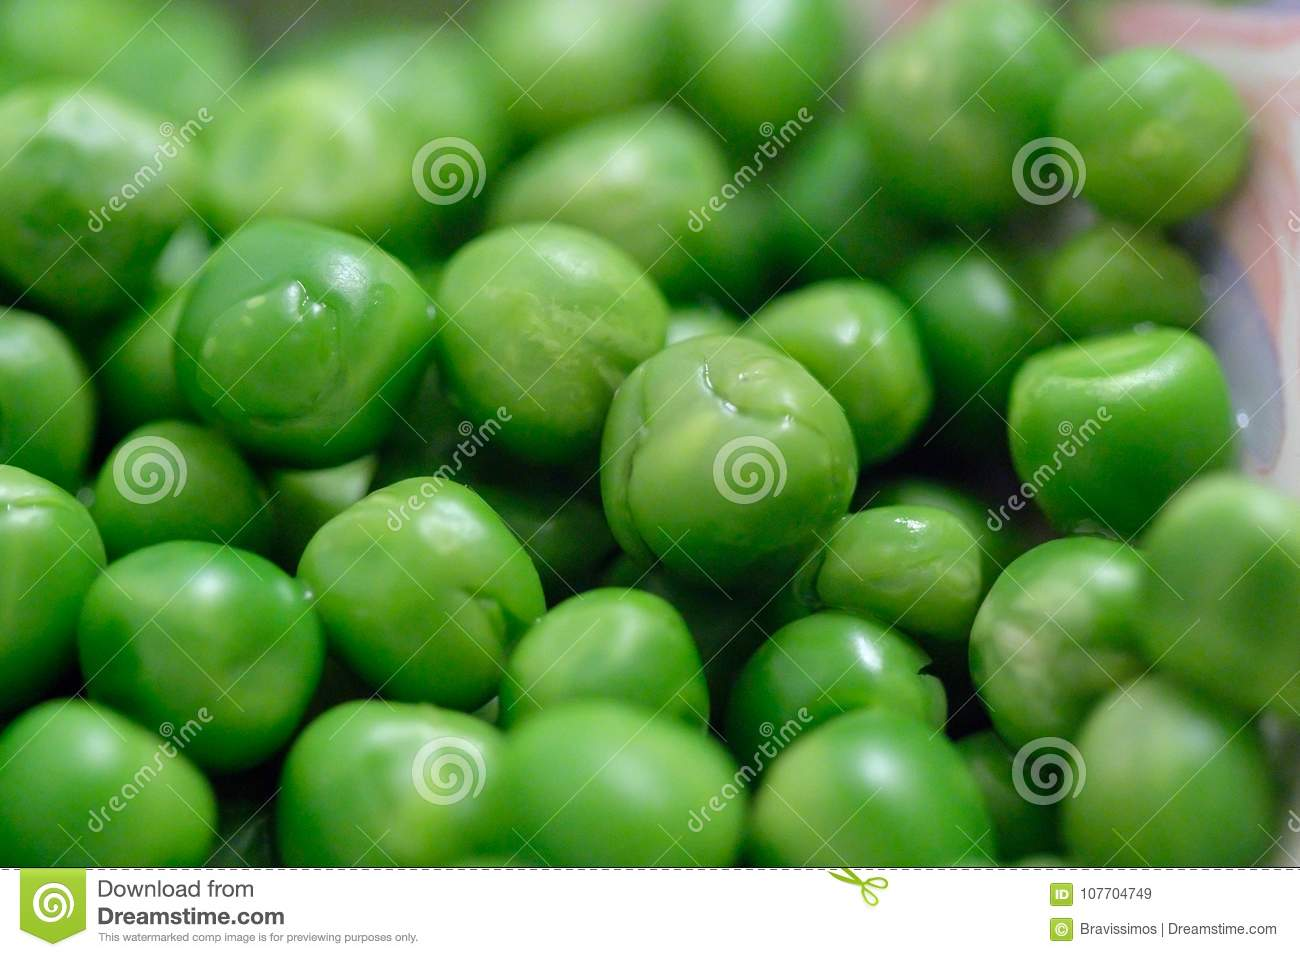boiled peas: (20, 89, 1264, 858)
